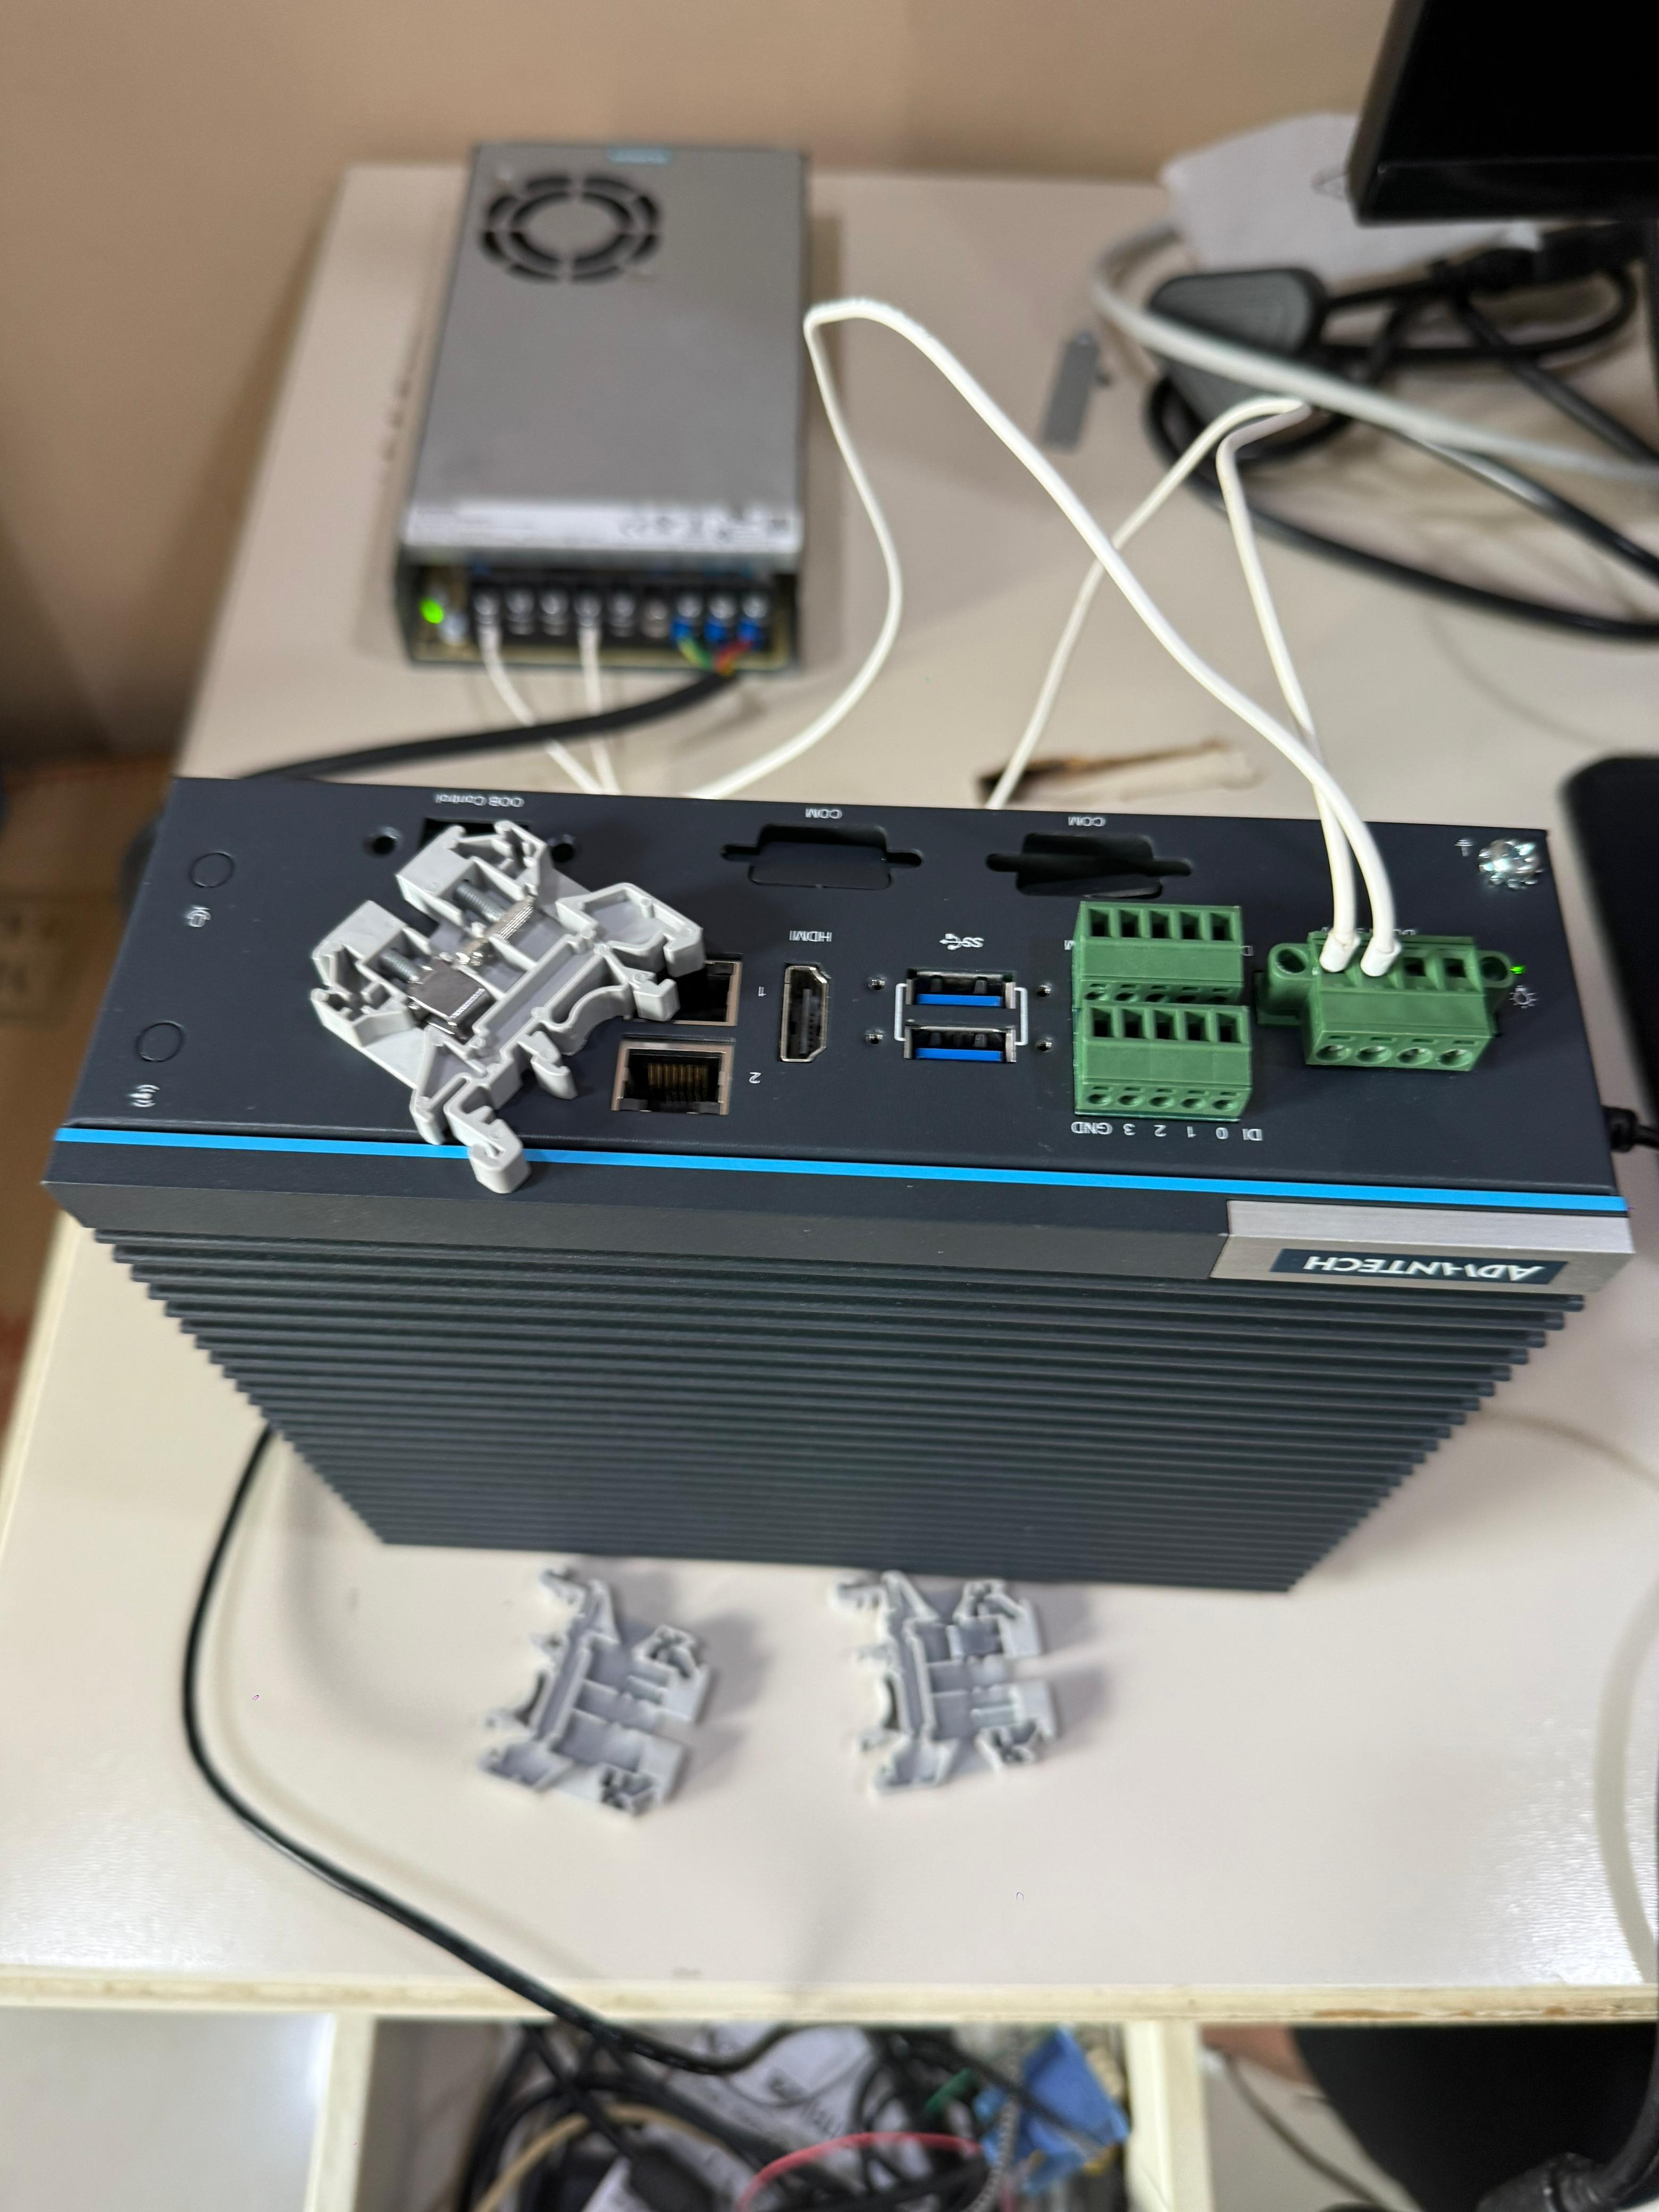Reject: (300, 812, 713, 1193), (483, 1557, 709, 1817), (823, 1568, 1063, 1784)
